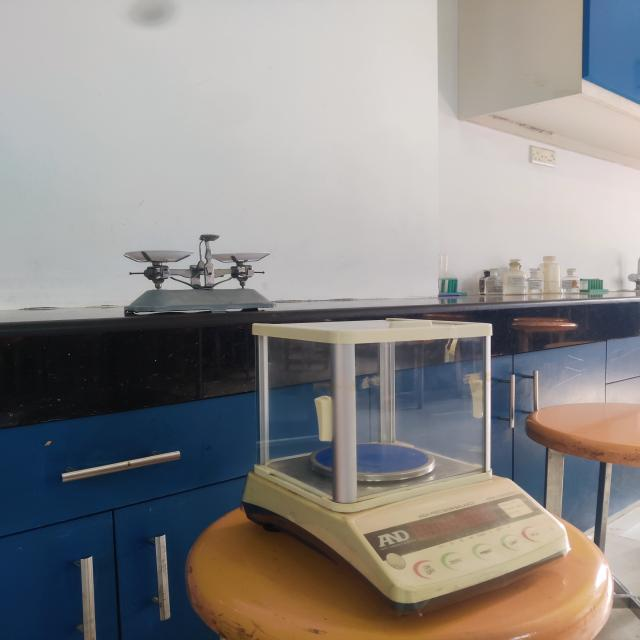Mechanical_Balance_Scale: (113, 220, 287, 331)
Precision_Weight_Scale: (231, 300, 585, 630)
